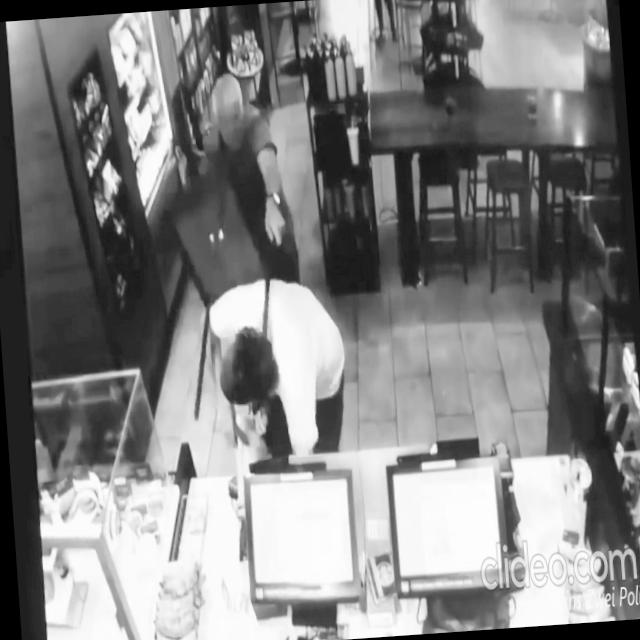person: (196, 272, 352, 464), (189, 67, 304, 298), (368, 0, 401, 53)
